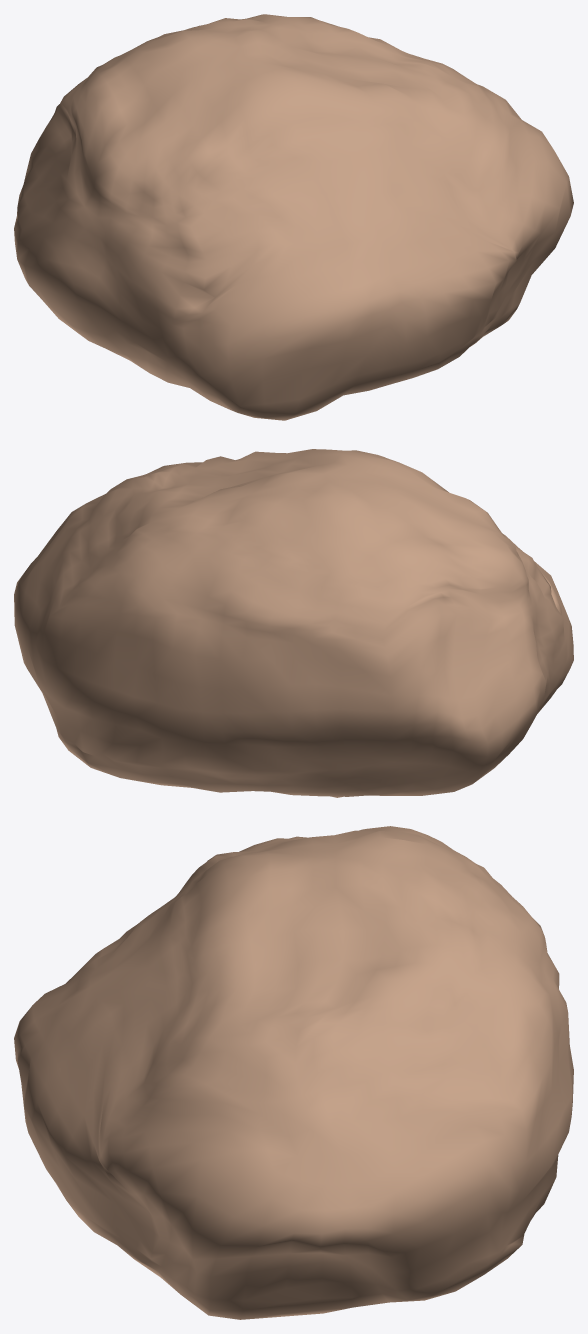
The model's file is roca3.fbx.
3 views of the same model, one above another, from view 1: azimuth 30°, elevation 25°; view 2: azimuth 150°, elevation 25°; view 3: azimuth 270°, elevation 25° (orthographic). The views are drawn at different scales.
Visible parts, largest first — view 1: Roca3_low; view 2: Roca3_low; view 3: Roca3_low.
Part boxes in pixels (bbox=[...]): Roca3_low: bbox=[14, 14, 573, 420]; Roca3_low: bbox=[14, 449, 573, 797]; Roca3_low: bbox=[14, 826, 573, 1319].
Size of the model in its own units: 184 by 108 by 153.
